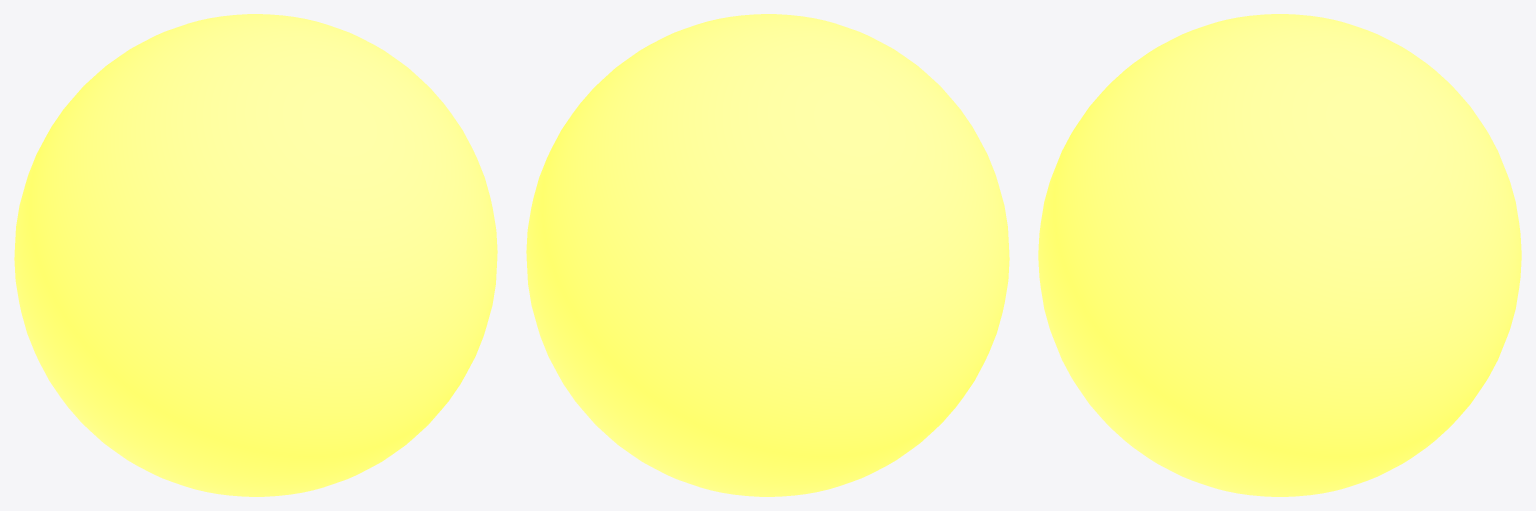
Rendered from bomb_explosion.glb.
3 renders of one model, left to right at view 1: azimuth 30°, elevation 25°; view 2: azimuth 150°, elevation 25°; view 3: azimuth 270°, elevation 25°, orthographic.
Parts seen in each view (by area): view 1: MainObject; view 2: MainObject; view 3: MainObject.
Part boxes in pixels (x1,y1,x2,y2): MainObject: [14, 14, 497, 496]; MainObject: [526, 14, 1009, 496]; MainObject: [1038, 14, 1521, 496].
Bounding box in the file's own units: 2 × 2 × 2.
